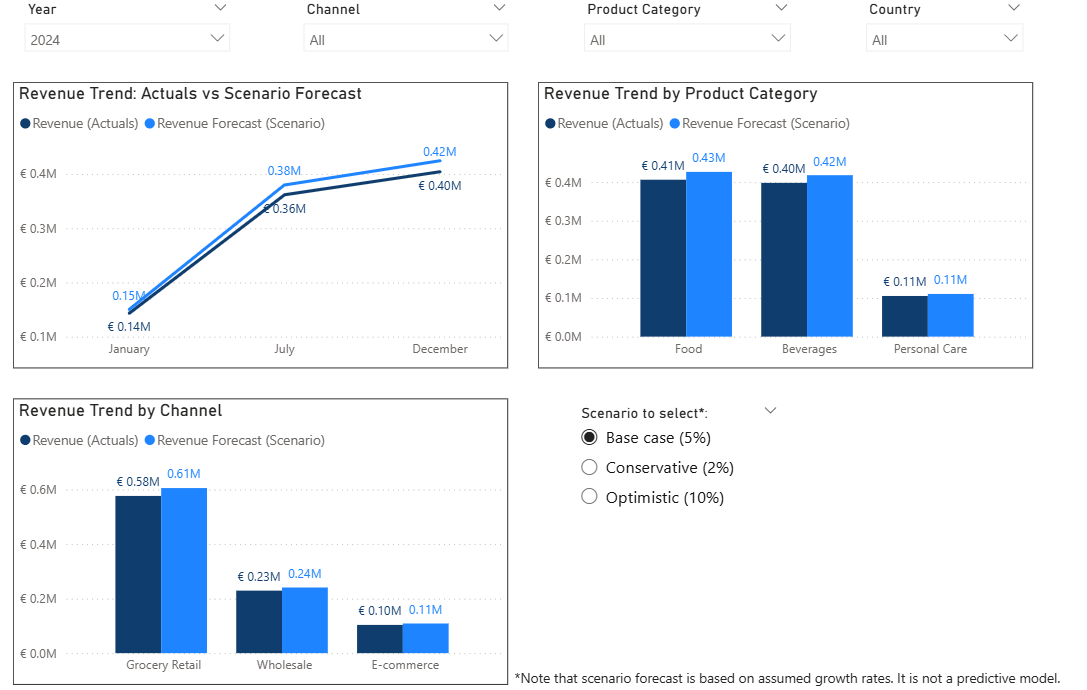

Layout of this report page (visuals, bound fields, positions):
{"tool":"powerbi","page":{"name":"Forecast & Scenarios","canvas":[1280,720],"ordinal":3},"visuals":[{"type":"slicer","fields":{"Values":["dim_date.year"]},"box":[139.3,0,221.1,69.7],"z":0},{"type":"slicer","fields":{"Values":["dim_channel.channel"]},"box":[413.9,0,221,69.4],"z":1000},{"type":"slicer","fields":{"Values":["dim_product.category"]},"box":[688.4,0,222.6,69.4],"z":2000},{"type":"lineChart","title":"Revenue Trend: Actuals vs Scenario Forecast","fields":{"Category":["dim_date.month_name"],"Y":["fact_sales.Total revenue","Growth Scenario.Revenue Forecast (Scenario)"]},"box":[138.8,84.8,485.5,280.6],"z":3000},{"type":"slicer","fields":{"Values":["Growth Scenario.Scenario"]},"box":[682.3,396.1,217.7,130.6],"z":4000},{"type":"clusteredColumnChart","title":"Revenue Trend by Channel","fields":{"Y":["fact_sales.Total revenue","Growth Scenario.Revenue Forecast (Scenario)"],"Category":["dim_channel.Channel"]},"box":[138.8,396.1,485.5,280.6],"z":5000},{"type":"clusteredColumnChart","title":"Revenue Trend by Product Category","fields":{"Y":["fact_sales.Total revenue","Growth Scenario.Revenue Forecast (Scenario)"],"Category":["dim_product.category"]},"box":[653.3,84.8,485.5,280.6],"z":6000},{"type":"slicer","fields":{"Values":["dim_region.country"]},"box":[964.5,0,174.1,69.7],"z":7000},{"type":"textbox","box":[625.4,654.1,549.7,45.4],"z":8000}]}

Visuals, with their boxes on the page's 1280x720 design canvas (x1, y1, x2, y2). These are canvas units, not pixel positions in the 1087x690 screenshot, which may show the page scaled, cropped or inside an application window:
slicer - dim_date.year: [left=139, top=0, right=360, bottom=70]
slicer - dim_channel.channel: [left=414, top=0, right=635, bottom=69]
slicer - dim_product.category: [left=688, top=0, right=911, bottom=69]
"Revenue Trend: Actuals vs Scenario Forecast" lineChart: [left=139, top=85, right=624, bottom=365]
slicer - Growth Scenario.Scenario: [left=682, top=396, right=900, bottom=527]
"Revenue Trend by Channel" clusteredColumnChart: [left=139, top=396, right=624, bottom=677]
"Revenue Trend by Product Category" clusteredColumnChart: [left=653, top=85, right=1139, bottom=365]
slicer - dim_region.country: [left=964, top=0, right=1139, bottom=70]
textbox: [left=625, top=654, right=1175, bottom=700]
